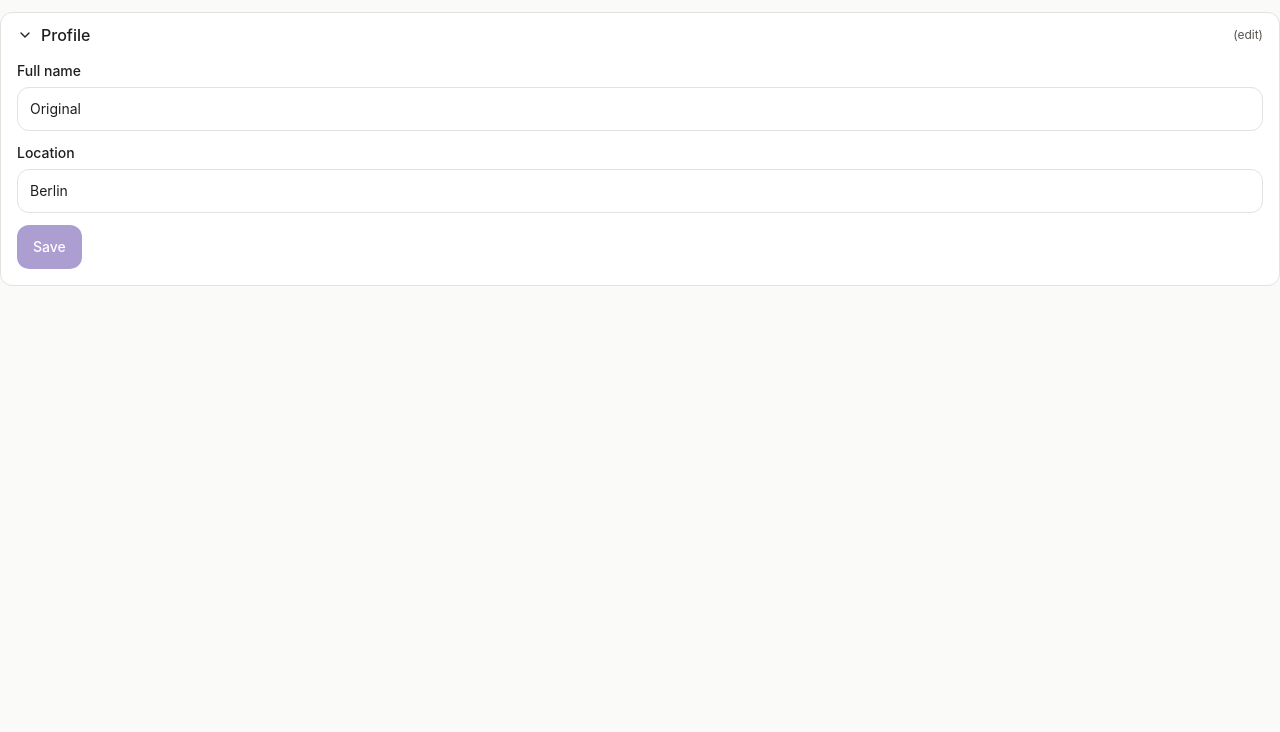
it: ProfileForm optimistic write › rollback: the failed edit never sticks and a Toast is surfaced
Replace the text in the field labelled "Full name" with "New Name" at [640, 109], box top-left (17, 87), bottom-right (1263, 131)
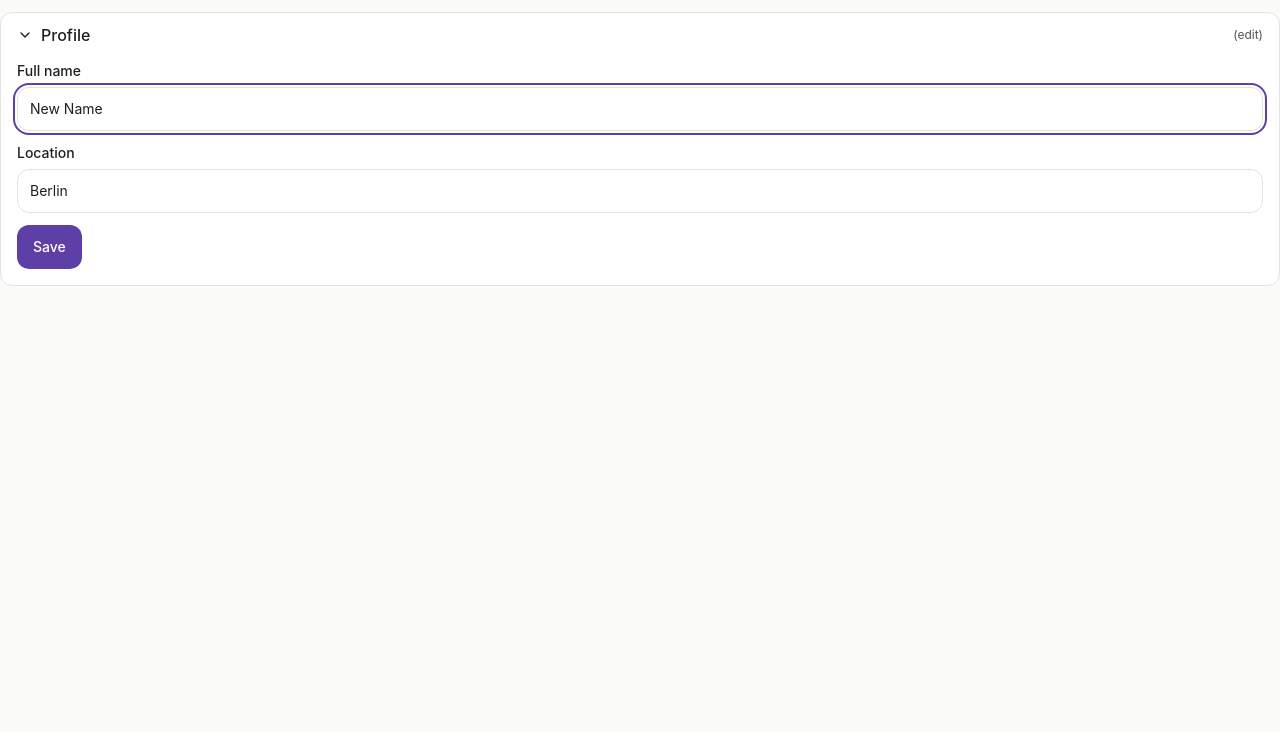
Click the button "Save" at [49, 247], box top-left (17, 225), bottom-right (82, 269)
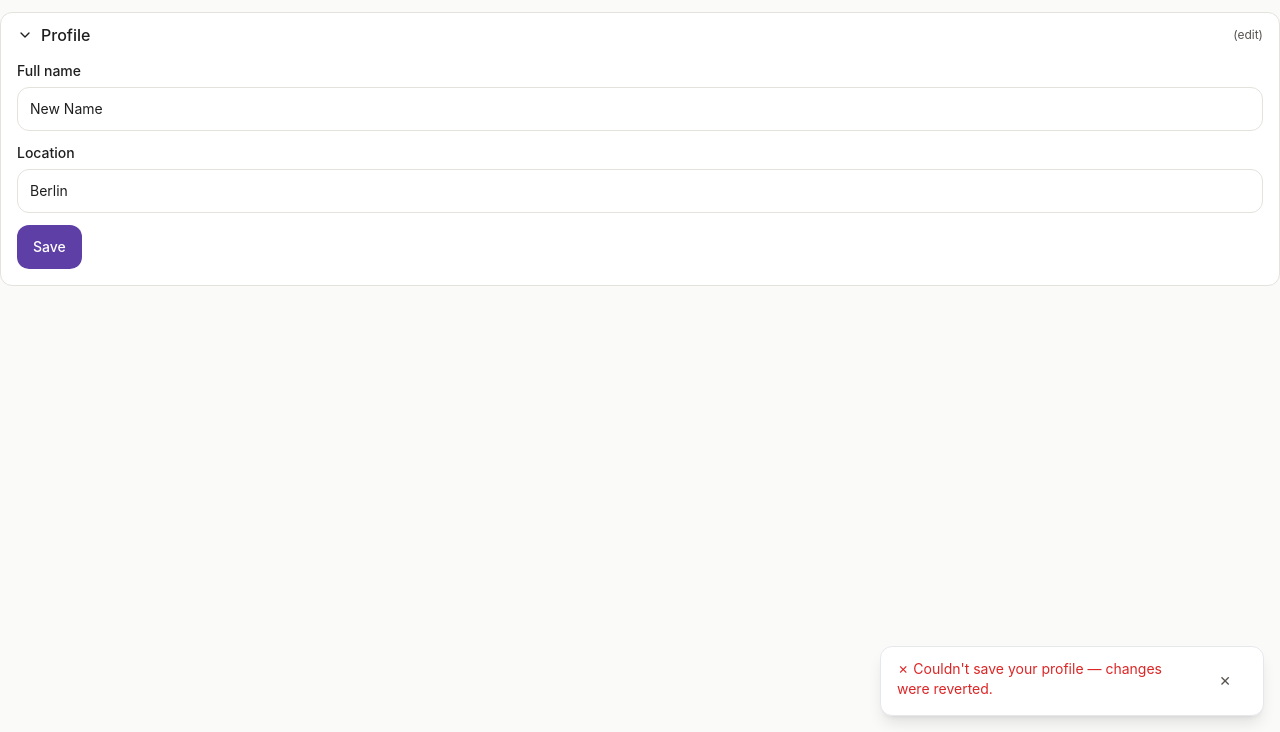
Result: the text "✗ Couldn't save your profile — changes were reverted." is shown at top-left (897, 659), bottom-right (1191, 699)
